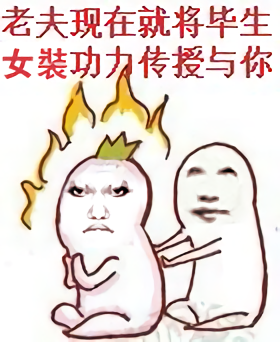dragon: (69, 183, 132, 233)
